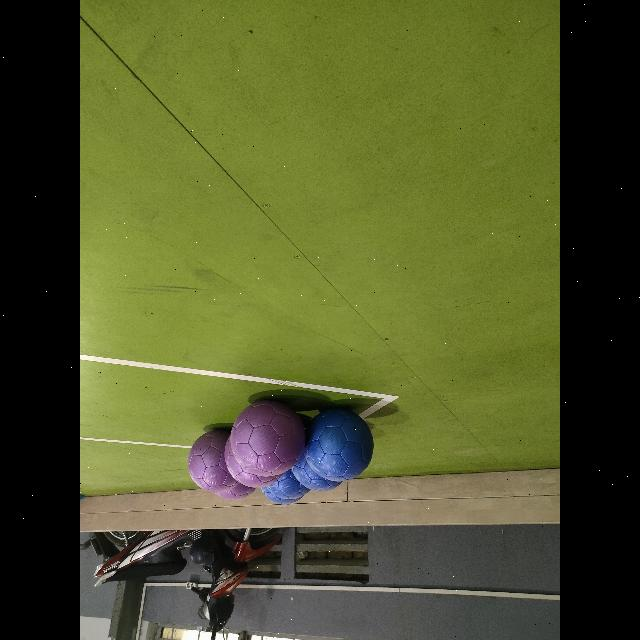B: (305, 410, 373, 480), (264, 470, 310, 500)
P: (230, 400, 306, 478), (188, 430, 235, 492)
